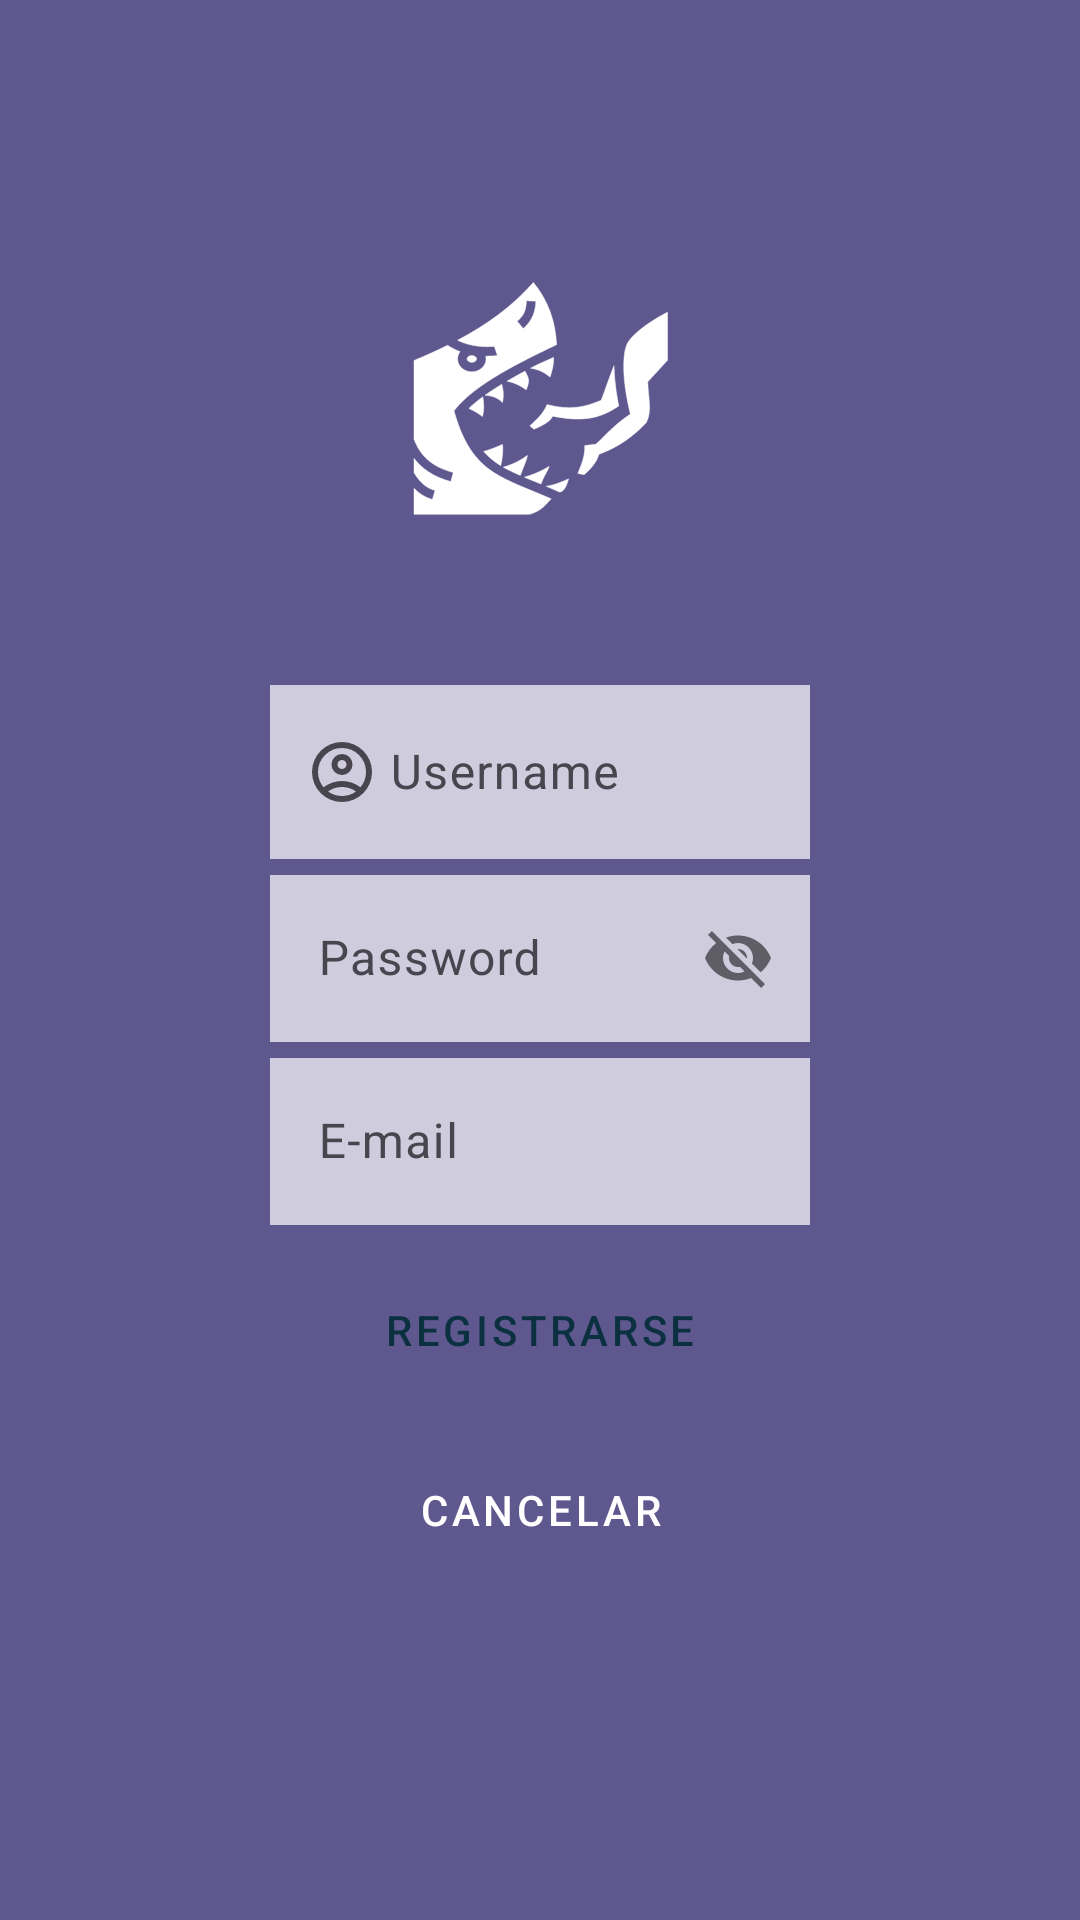

Icon click points for this 1080px×1920px phone screenshot, format (x,y):
shark bite: (540,398)
